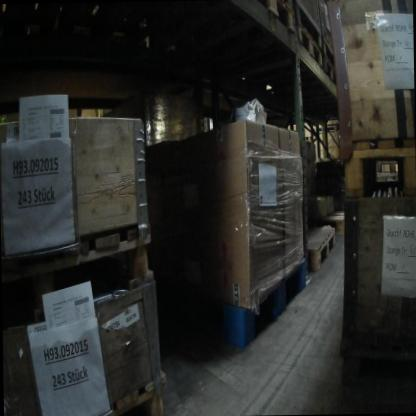pallet: (170, 258, 311, 359), (4, 224, 160, 315), (335, 136, 415, 198), (95, 363, 173, 415), (242, 0, 299, 54), (287, 220, 338, 277), (291, 17, 323, 80), (320, 204, 353, 239), (324, 59, 341, 92)
stillage: (313, 0, 342, 66), (297, 0, 322, 43)
